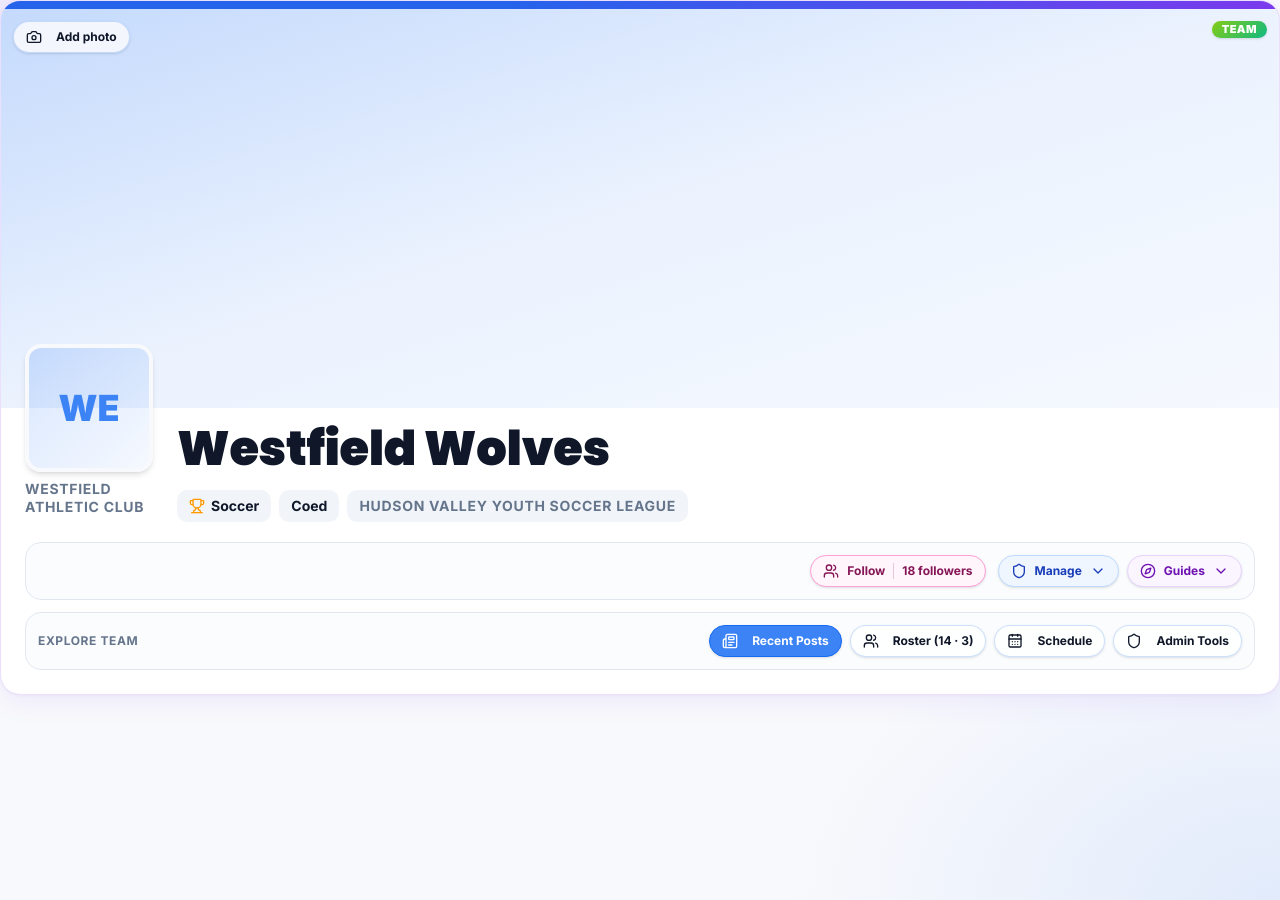
Test case: TeamHeaderCard action hierarchy › separates manager controls from guides for a manager
The width and height of the screenshot is (1280, 900).
Later steps or results of the test are not shown.
Check: the button with test id "btn-toggle-admin" is shown, box [1114,625,1242,657]
Check: the element with test id "team-contextual-tools" is shown, box [998,555,1242,587]
Click the button with test id "btn-team-manage-menu". click: (1058, 571)
box: [998,555,1119,587]
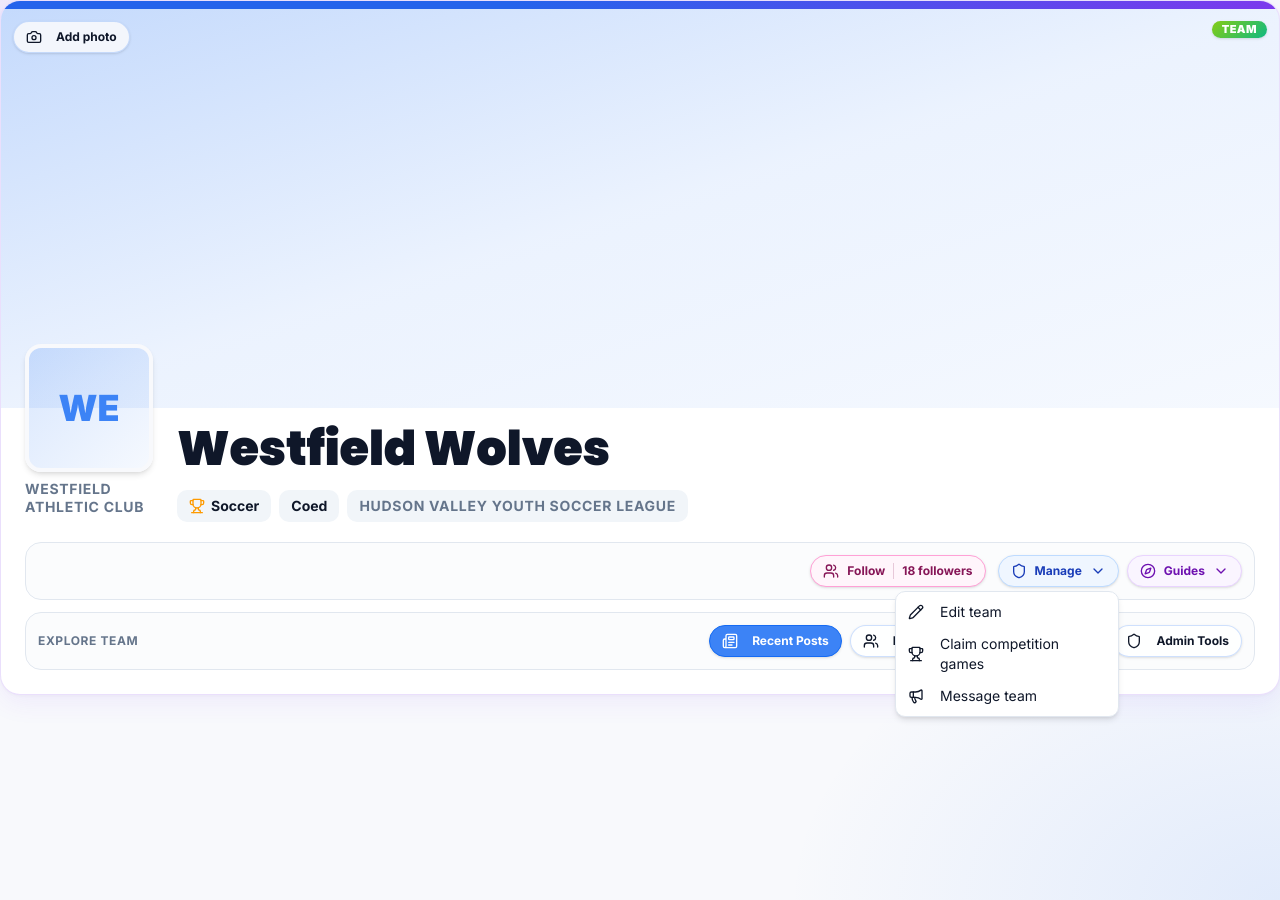
Check: the menu item with test id "btn-edit-team" reads "Edit team", box [908,603,1002,620]
Check: the menu item with test id "btn-claim-competition" is shown, box [908,635,1059,672]
Check: the menu item with test id "btn-team-broadcast" is shown, box [908,687,1037,704]
Press Escape
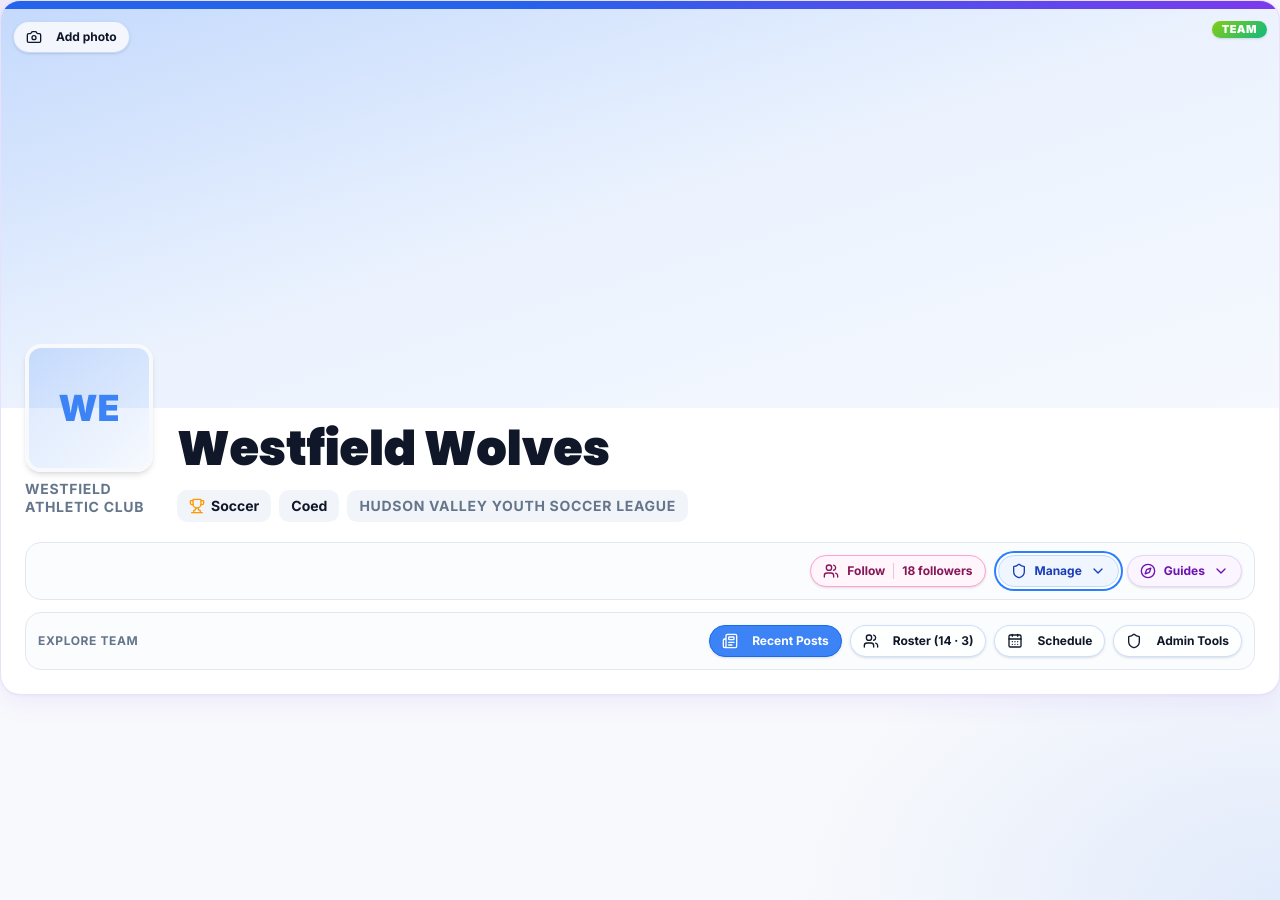
Click the button with test id "btn-team-guides-menu". click: (1184, 571)
box: [1127,555,1242,587]
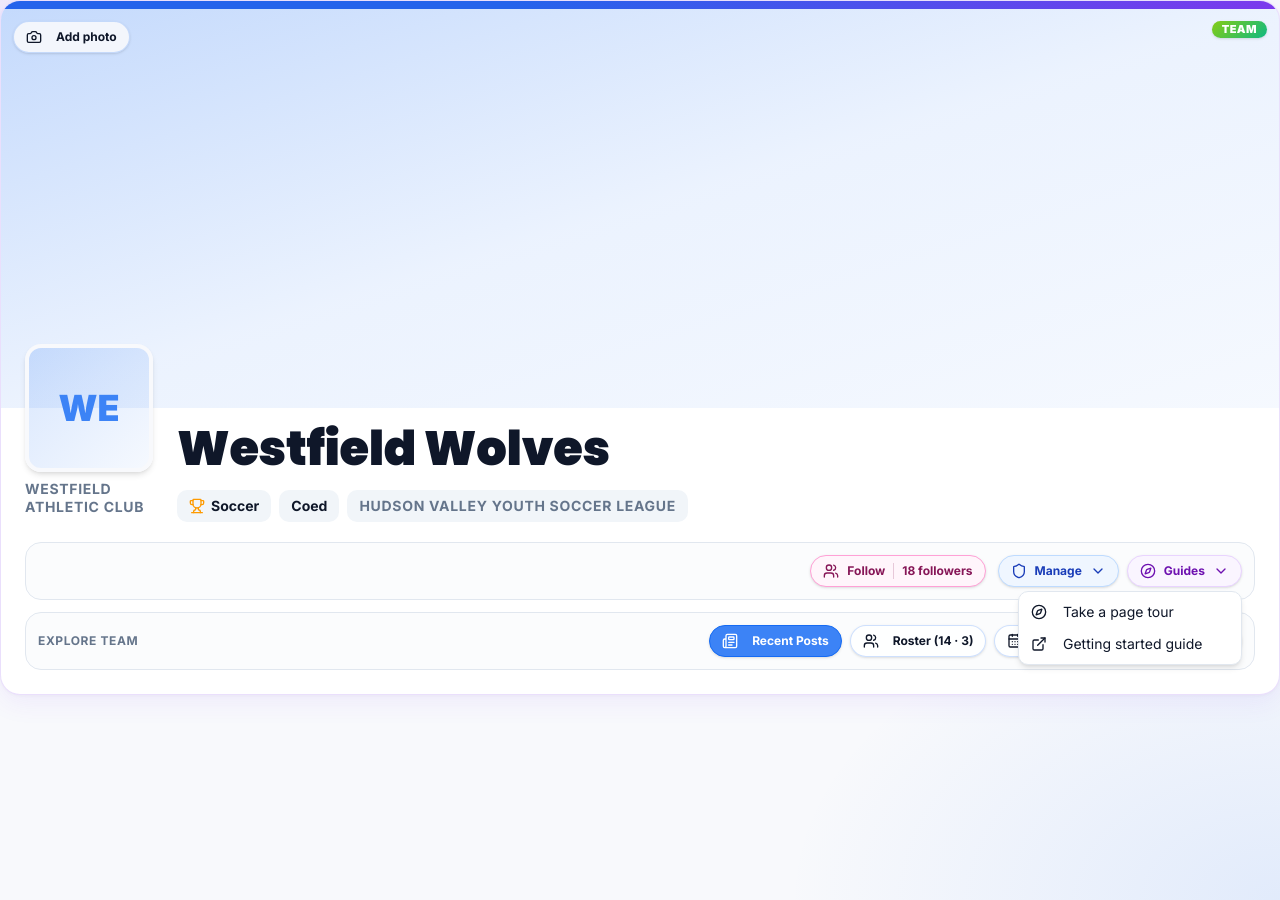
Check: the menu item with test id "btn-team-replay-tour" reads "Take a page tour", box [1031,603,1174,620]
Check: the menu item with test id "link-team-getting-started" is shown, box [1031,635,1202,652]
